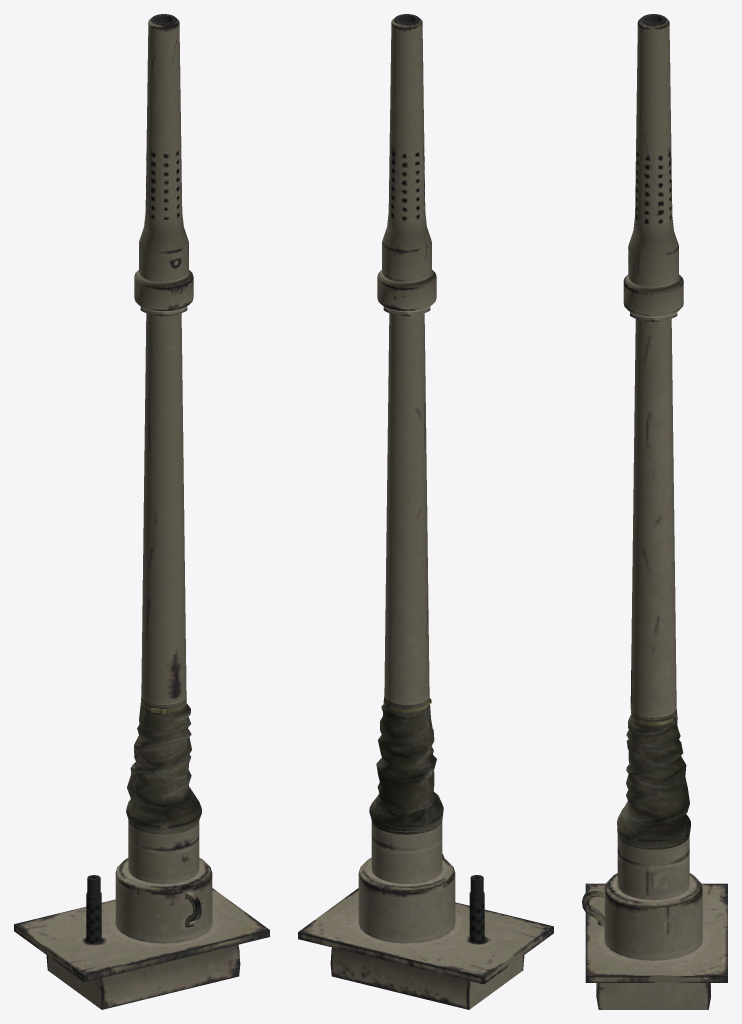
File: Gun_02.glb
3 renders of one model, left to right at view 1: azimuth 30°, elevation 25°; view 2: azimuth 150°, elevation 25°; view 3: azimuth 270°, elevation 25°, orthographic.
Visible parts, largest first — view 1: set_0_group_0; view 2: set_0_group_0; view 3: set_0_group_0.
Boxes of the visible parts, x1=… form: set_0_group_0: x1=14, y1=14, x2=269, y2=1009; set_0_group_0: x1=298, y1=14, x2=553, y2=1009; set_0_group_0: x1=582, y1=14, x2=727, y2=1009.
Bounding box in the file's own units: 0.69 × 3.37 × 0.4598.
1 material, 1 textured.
